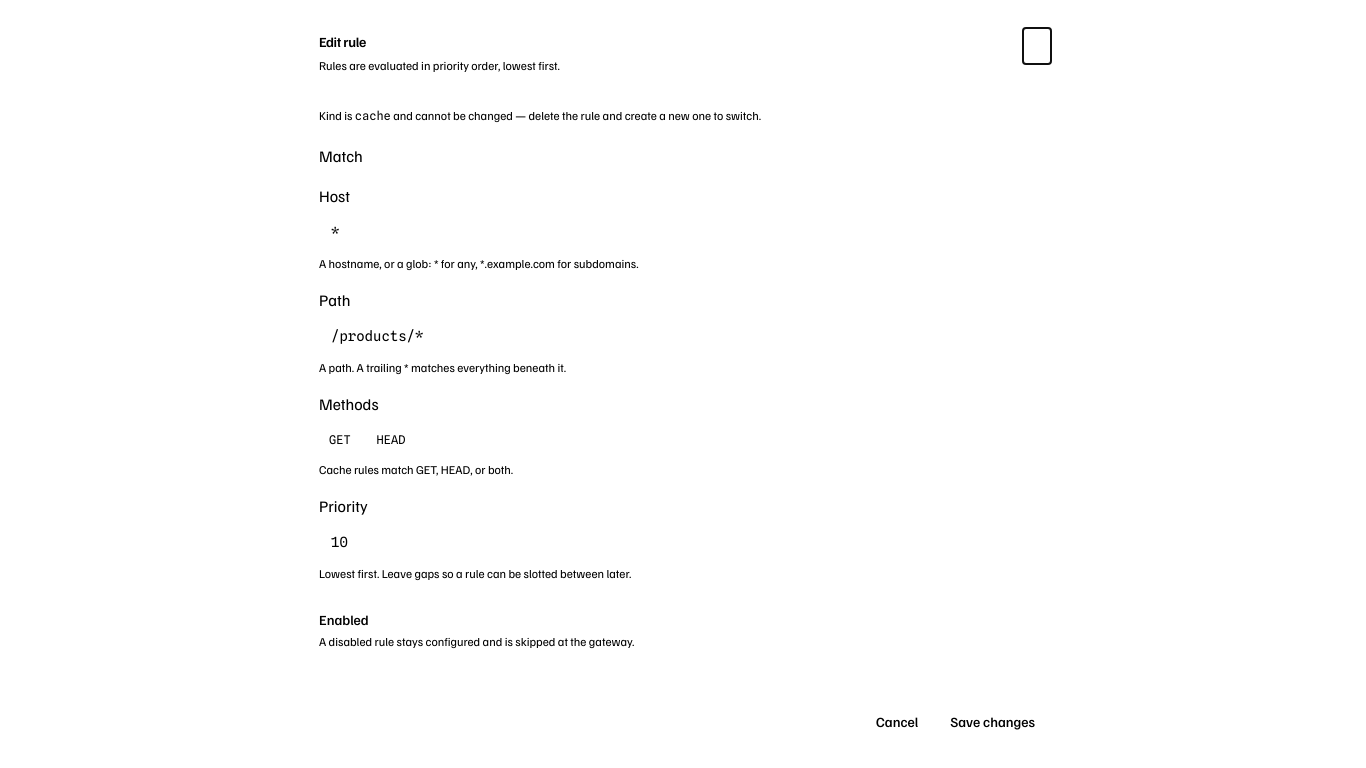
Test case: refuses unsupported cache methods returned by a stale server rule
Click the button "Save changes" at (993, 722), box [938,706,1047,738]
(page scrolled)
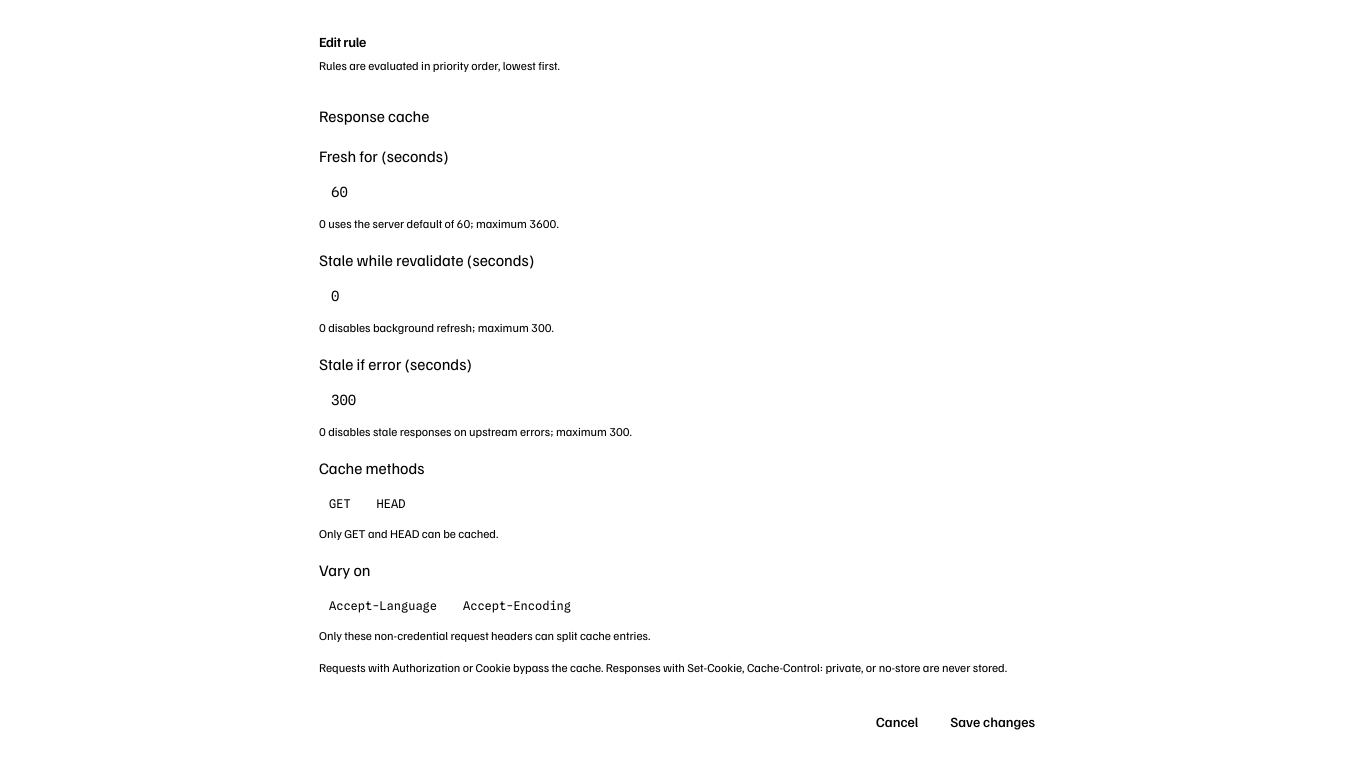
Expected: the message shows "Only GET and HEAD", [319,526,498,541]
